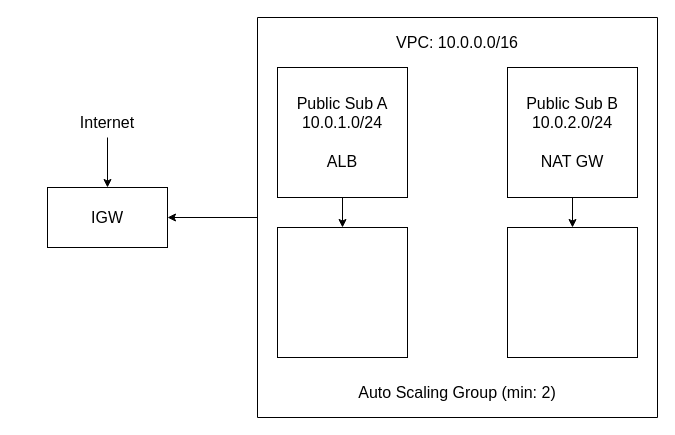
Image size: 675x435. Some labels were removed from this diagram. The box of each missing label's shape, as (x1, y1, x2, y2) in pixels:
Private Sub A 10.0.11.0/24 EC2 (AZ-A): (276, 226, 408, 358)
Private Sub B 10.0.12.0/24 EC2 (AZ-B): (506, 226, 638, 358)
